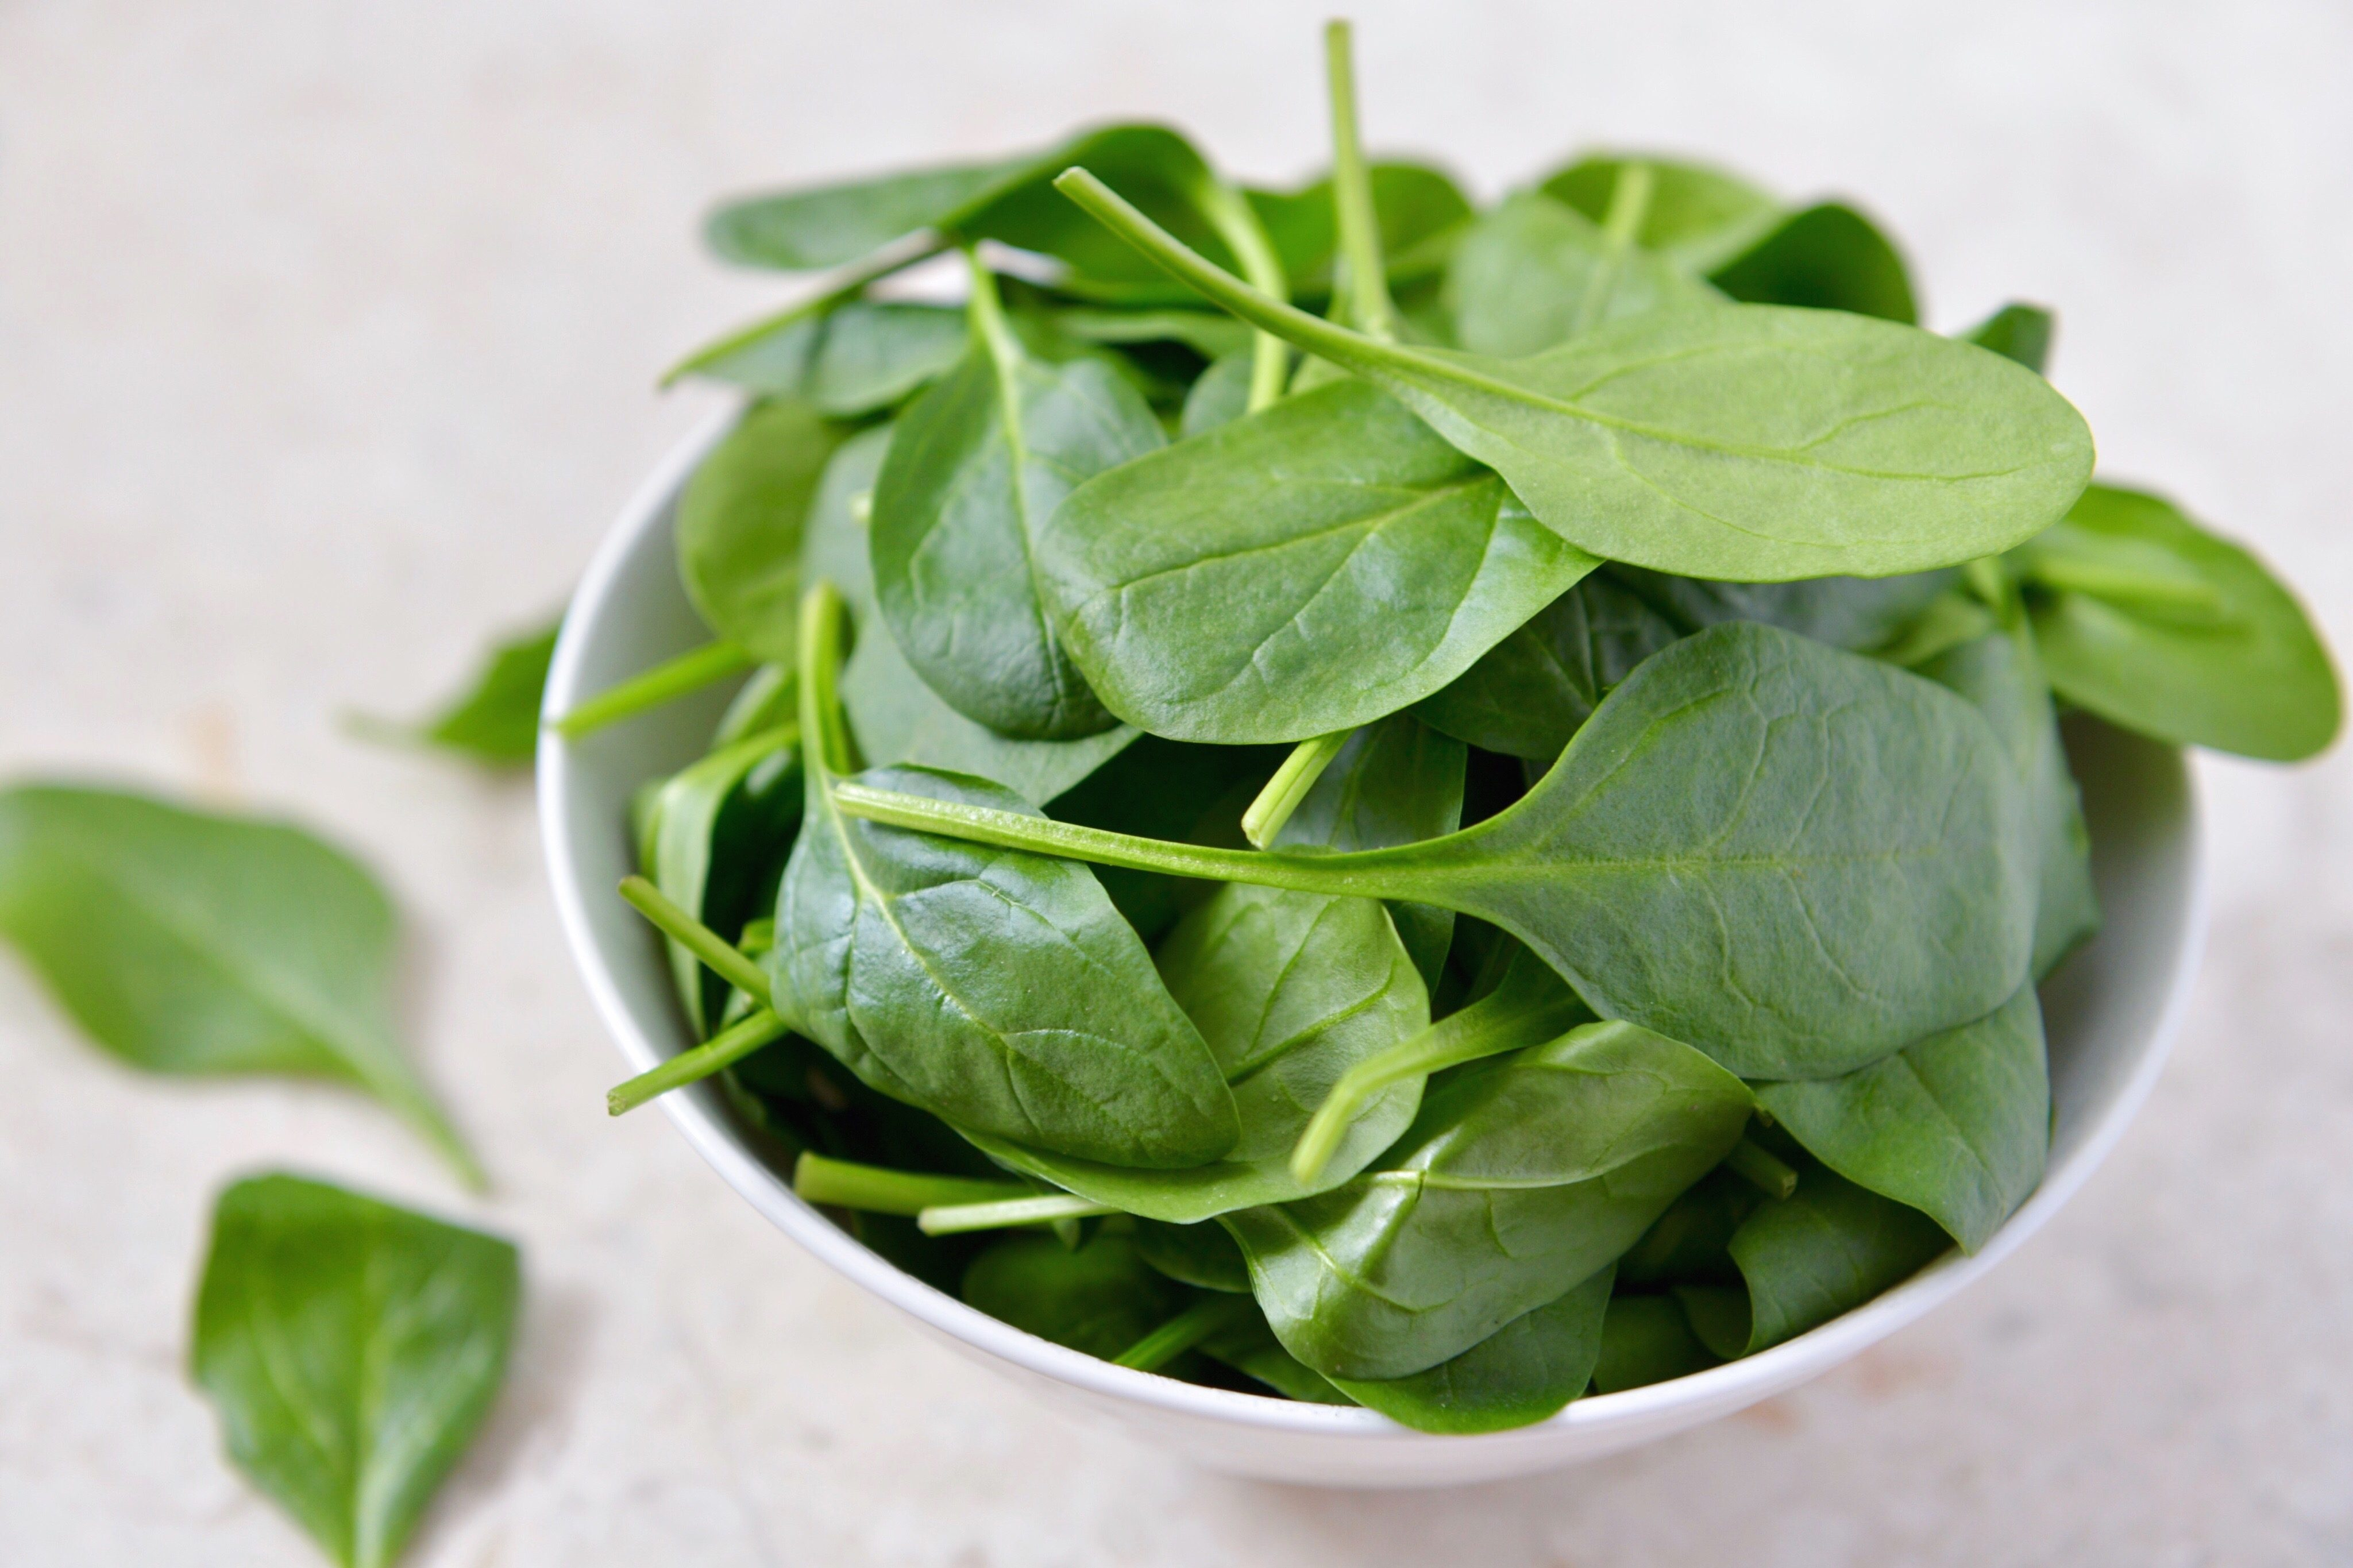Spinach: (523, 0, 2353, 1473)
